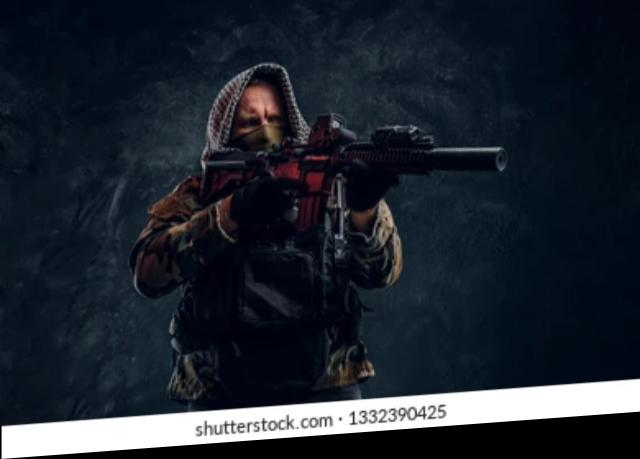other: (134, 59, 402, 403)
